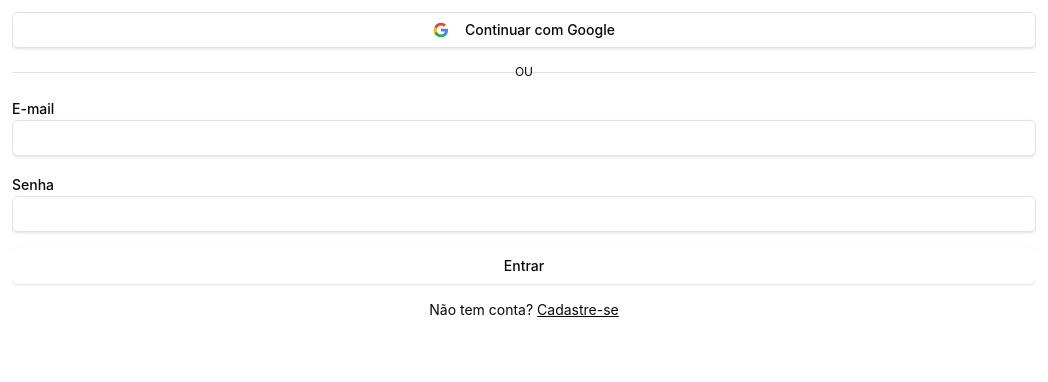
LoginForm › exibe erros de validação Zod com campos inválidos
Type "email-invalido" into the field labelled "E-mail".
click(524, 138); type("email-invalido")  # box [12,120,1036,156]
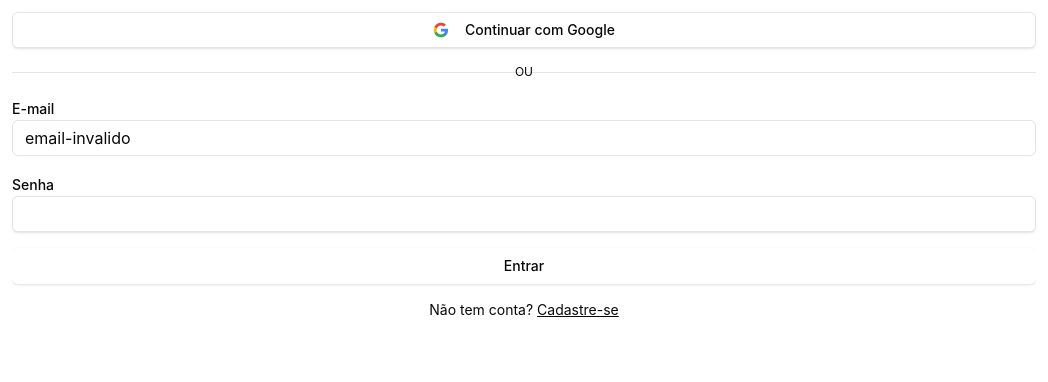
Type "123" into the password field labelled "Senha".
click(524, 214); type("123")  # box [12,196,1036,232]
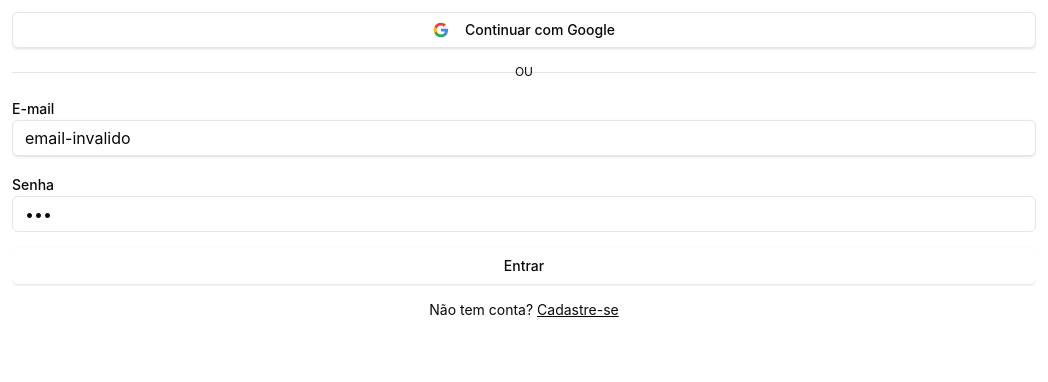
Click the button "Entrar".
click(524, 266)  # box [12,248,1036,284]
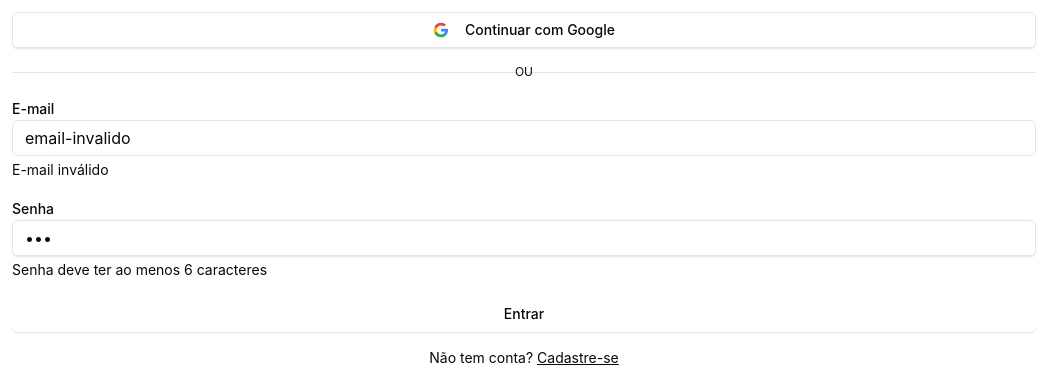
Now the text "E-mail inválido" is shown, box [12,161,109,178]
Now the text "Senha deve ter ao menos 6 caracteres" is shown, box [12,261,267,278]
